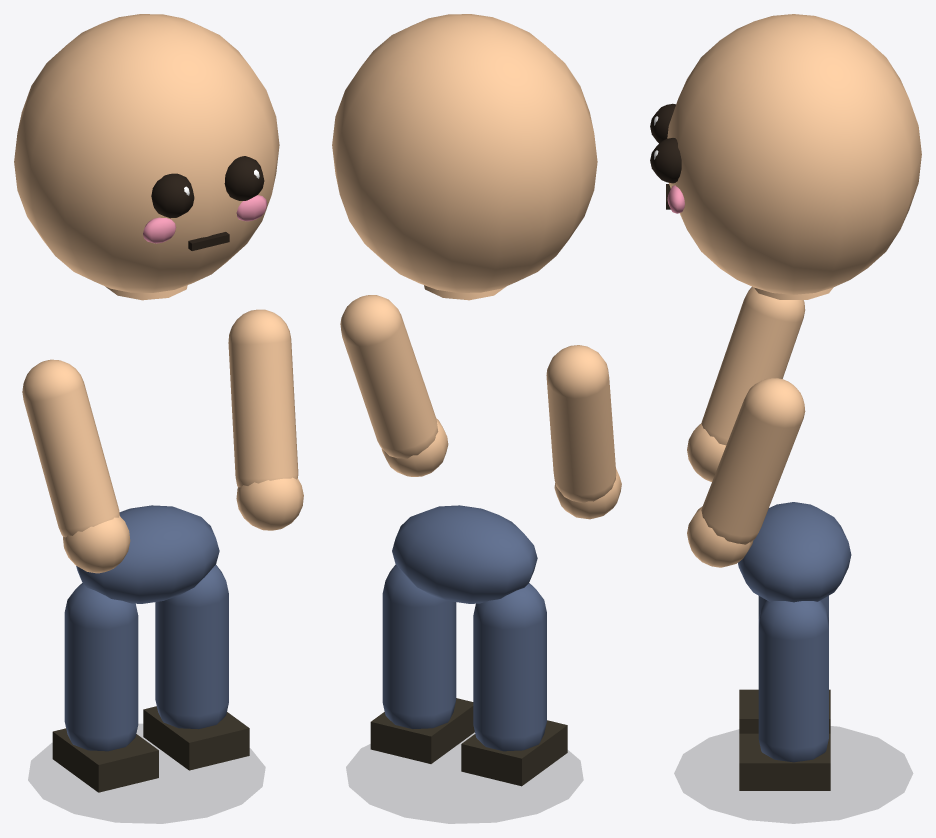
Rendered from body.glb.
3 renders of one model, left to right at view 1: azimuth 30°, elevation 25°; view 2: azimuth 150°, elevation 25°; view 3: azimuth 270°, elevation 25°, orthographic.
Parts seen in each view (by area): view 1: HeadBall, Leg_L, Leg_R, Arm_R, Arm_L, object 15, Hips, Eye_L, Eye_R, Blush_L, Blush_R; view 2: HeadBall, Leg_L, Leg_R, object 15, Arm_R, Hips, Arm_L; view 3: HeadBall, Leg_R, object 15, Arm_R, Arm_L, Hips, Leg_L, Eye_R, Eye_L.
Part boxes in pixels (x1,y1,x2,y2): HeadBall: [14, 14, 279, 292]; Leg_L: [52, 583, 158, 792]; Leg_R: [143, 564, 249, 770]; Arm_R: [228, 309, 303, 530]; Arm_L: [22, 359, 130, 573]; object 15: [28, 724, 264, 823]; Hips: [76, 505, 219, 603]; Eye_L: [151, 173, 194, 218]; Eye_R: [224, 156, 264, 200]; Blush_L: [143, 217, 176, 243]; Blush_R: [236, 195, 267, 221]; HeadBall: [332, 14, 597, 292]; Leg_L: [461, 583, 567, 786]; Leg_R: [370, 564, 474, 763]; object 15: [346, 733, 582, 823]; Arm_R: [340, 295, 448, 476]; Hips: [392, 505, 537, 603]; Arm_L: [546, 345, 621, 519]; HeadBall: [667, 14, 921, 294]; Leg_R: [739, 600, 830, 790]; object 15: [674, 726, 912, 823]; Arm_R: [687, 378, 805, 567]; Arm_L: [687, 286, 805, 481]; Hips: [738, 502, 851, 602]; Leg_L: [739, 595, 830, 733]; Eye_R: [650, 138, 681, 183]; Eye_L: [650, 103, 675, 143].
Size of the model in its own units: 13.79 by 37.89 by 12.49.
